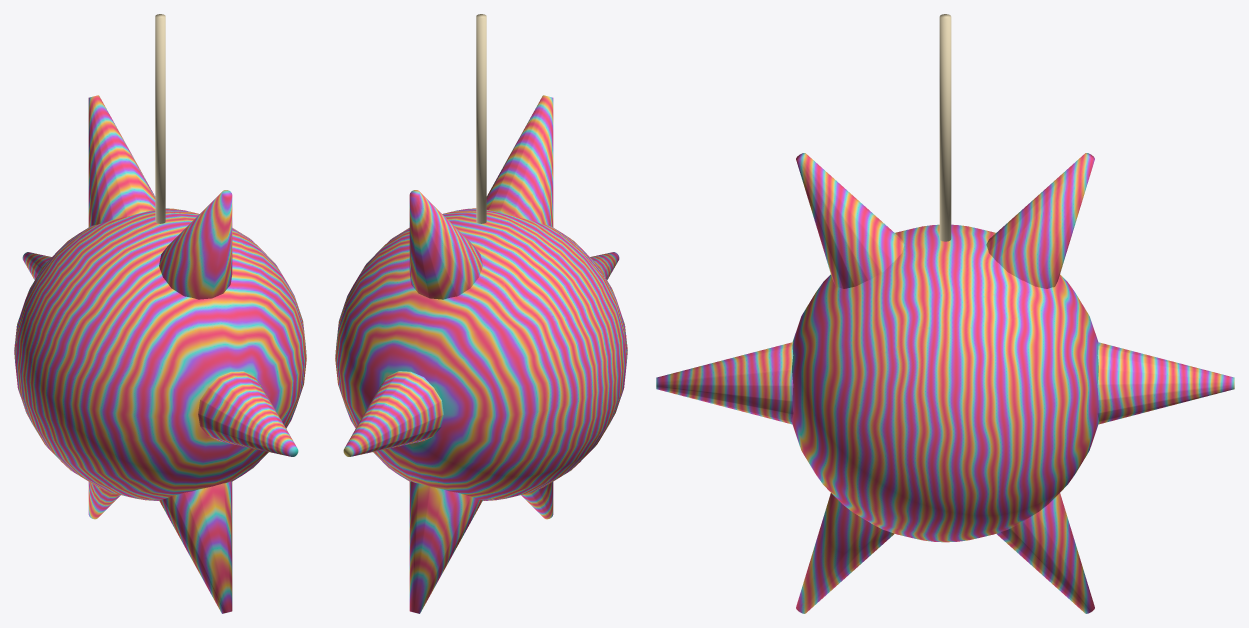
Rendered from SM_Pinata.fbx.
The picture shows the model from 3 angles, left to right: view 1: azimuth 30°, elevation 25°; view 2: azimuth 150°, elevation 25°; view 3: azimuth 270°, elevation 25°; orthographic projection. The views are drawn at different scales.
Visible parts, largest first — view 1: SM_Pinata; view 2: SM_Pinata; view 3: SM_Pinata.
Part boxes in pixels (x1=…): SM_Pinata: x1=14, y1=14, x2=306, y2=613; SM_Pinata: x1=335, y1=14, x2=627, y2=613; SM_Pinata: x1=656, y1=14, x2=1234, y2=613.
Size of what is drawn, in the model's own units: 1.1 by 2.28 by 2.
Materials: 1 (1 with a texture image).
